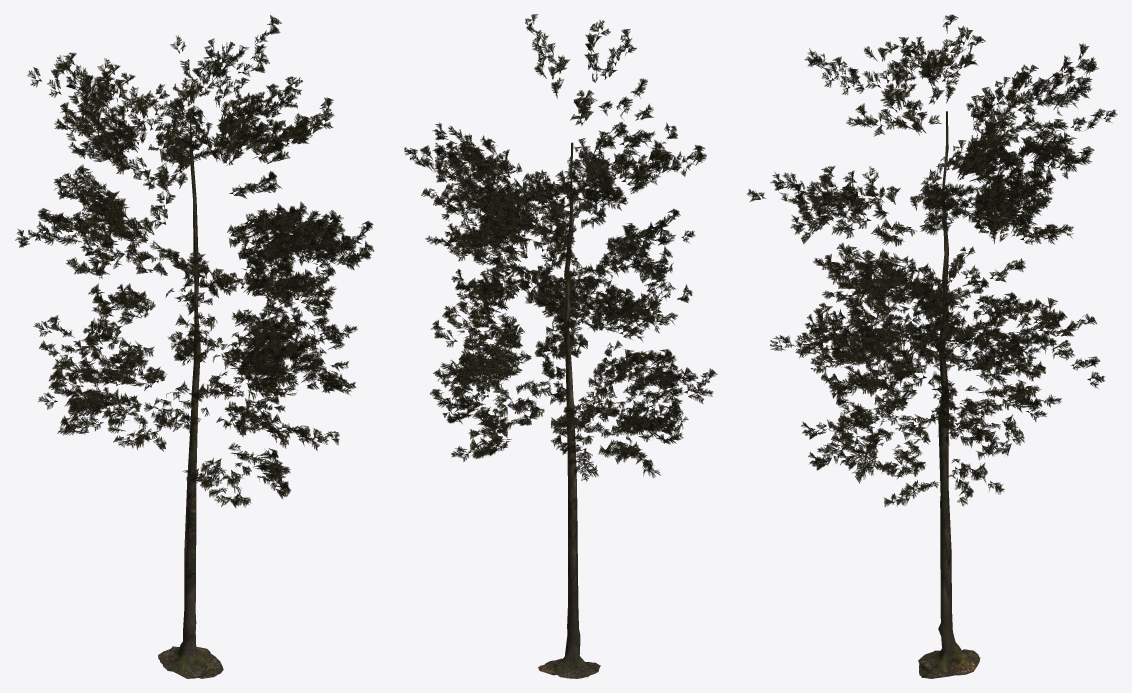
The model's file is pine_tree_01_b_far.glb.
3 views of the same model, side by side, from view 1: azimuth 30°, elevation 25°; view 2: azimuth 150°, elevation 25°; view 3: azimuth 270°, elevation 25° (orthographic). The views are drawn at different scales.
Visible parts, largest first — view 1: pine_tree_01_b_far; view 2: pine_tree_01_b_far; view 3: pine_tree_01_b_far.
Part boxes in pixels (x1=…): pine_tree_01_b_far: x1=15, y1=15, x2=373, y2=678; pine_tree_01_b_far: x1=404, y1=14, x2=717, y2=678; pine_tree_01_b_far: x1=747, y1=14, x2=1117, y2=678.
Bounding box in the file's own units: 7.22 × 14.87 × 7.55.
2 materials, 2 textured.
